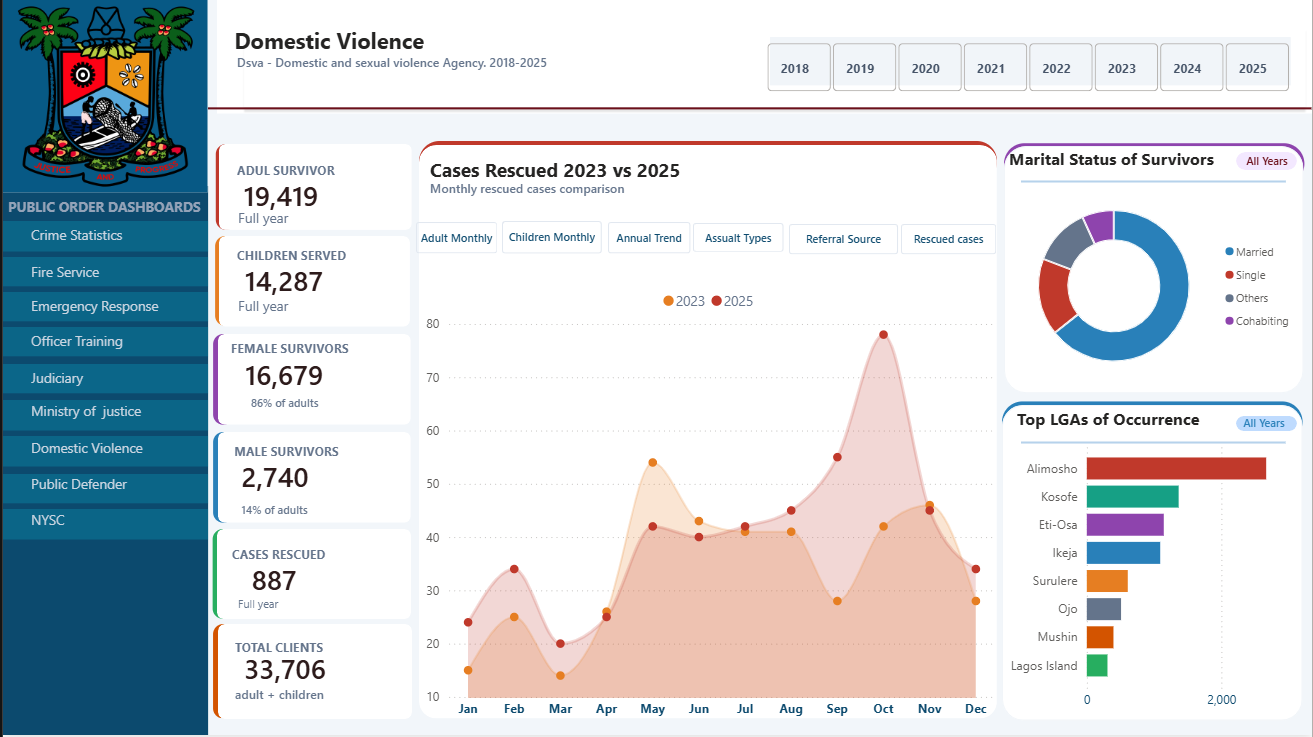

What the dashboard file says about the page in this screenshot:
{"tool":"powerbi","page":{"name":"Domestic Violoence","canvas":[1280,720],"ordinal":6},"visuals":[{"type":"shape","box":[94.3,610.9,243.1,92.4],"z":0},{"type":"shape","box":[407.1,99.6,565.3,118.2],"z":1000},{"type":"shape","box":[0,182.7,200.6,537.3],"z":2000},{"type":"shape","box":[0,499.1,200.6,29.9],"z":3000},{"type":"shape","box":[0,464.5,200.6,28.7],"z":4000},{"type":"shape","box":[0,427.5,200.6,29.9],"z":5000},{"type":"shape","box":[0,391.6,200.6,29.9],"z":6000},{"type":"shape","box":[0,357,200.6,28.7],"z":7000},{"type":"shape","box":[0,321.2,200.6,28.7],"z":8000},{"type":"shape","box":[0,286.6,200.6,28.7],"z":9000},{"type":"shape","box":[0,251.9,200.6,28.7],"z":10000},{"type":"shape","box":[0,217.3,200.6,29.9],"z":11000},{"type":"shape","box":[95.2,518.5,240.3,87.8],"z":12000},{"type":"shape","box":[209.3,518.3,189.7,88],"z":13000},{"type":"textbox","box":[211.8,0,373,70.6],"z":14000},{"type":"shape","box":[95.2,423.3,241.2,88.7],"z":15000},{"type":"shape","box":[209.8,423.3,188.5,88.7],"z":16000},{"type":"shape","box":[95.2,327.2,241.2,88.7],"z":17000},{"type":"shape","box":[209.8,327.2,188.5,88.7],"z":18000},{"type":"shape","box":[97,232,241.2,87.8],"z":19000},{"type":"shape","box":[211.6,232,186.7,88.7],"z":20000},{"type":"shape","box":[97.6,141.8,240.6,84],"z":21000},{"type":"shape","box":[211.6,141.4,188.5,84.1],"z":22000},{"type":"shape","box":[977,375.6,293.9,76],"z":23000},{"type":"shape","box":[209.2,0,1071,112.2],"z":24000},{"type":"shape","box":[0,0,200,189.3],"z":25000},{"type":"shape","box":[744.4,31.8,520.9,59],"z":26000},{"type":"advancedSlicerVisual","fields":{"Values":["YearTable.Year"]},"box":[727.4,35.2,552.6,63.5],"z":27000},{"type":"shape","box":[977,397.2,293.9,308.7],"z":28000},{"type":"shape","box":[407.1,143.1,565.3,560.9],"z":29000},{"type":"shape","box":[979.1,111,293.7,99.1],"z":30000},{"type":"shape","box":[979.3,144.1,292.8,241.7],"z":31000},{"type":"textbox","box":[223.9,153.5,174.1,35.2],"z":32000},{"type":"card","fields":{"Values":["DSVA_Annual_Summary.Adult Survivors"]},"box":[218.1,166.2,107.6,53.8],"z":33000},{"type":"clusteredBarChart","fields":{"Category":["DSVA_LGA_of_Occurrence.LGA"],"Y":["Sum(DSVA_LGA_of_Occurrence.Count)"]},"box":[979.4,428.7,292.4,269.6],"z":35000},{"type":"shape","box":[995.2,391.5,258.7,85.1],"z":36000},{"type":"shape","box":[995.4,131,259.1,94.9],"z":37000},{"type":"textbox","box":[979.3,140.7,258.7,48.8],"z":38000},{"type":"textbox","box":[223.5,47.7,377.9,52.2],"z":39000},{"type":"textbox","box":[211.1,20.4,215.6,53.3],"z":45000},{"type":"textbox","box":[0,189.7,200.5,39.1],"z":46000},{"type":"textbox","box":[22.7,217.3,125.4,29.9],"z":47000},{"type":"textbox","box":[22.7,253.1,115.8,27.5],"z":48000},{"type":"textbox","box":[22.7,286.6,146.9,28.7],"z":49000},{"type":"textbox","box":[22.7,321.2,146.9,28.7],"z":50000},{"type":"textbox","box":[22.7,357,132.5,28.7],"z":51000},{"type":"textbox","box":[22.7,389.3,132.5,34.6],"z":52000},{"type":"textbox","box":[22.7,425.1,132.5,34.6],"z":53000},{"type":"textbox","box":[22.7,460.9,132.5,32.2],"z":54000},{"type":"textbox","box":[22.7,495.5,115.8,33.4],"z":55000},{"type":"textbox","box":[223.9,236.6,176,30.3],"z":56000},{"type":"card","fields":{"Values":["DSVA_Annual_Summary.Children Served"]},"box":[223.9,249.4,101.7,53.8],"z":57000},{"type":"textbox","box":[218.1,327.6,141.8,29.3],"z":58000},{"type":"card","fields":{"Values":["DSVA_Annual_Summary.Female Survivors"]},"box":[223.5,341.6,102.1,53.3],"z":59000},{"type":"textbox","box":[212.5,428.7,130.1,28.7],"z":60000},{"type":"card","fields":{"Values":["DSVA_Annual_Summary.Male Survivors"]},"box":[222.9,441,86.1,53.8],"z":61000},{"type":"shape","box":[210.2,611.2,189.7,92.9],"z":62000},{"type":"card","fields":{"Values":["DSVA_Annual_Summary.TotalRescued"]},"box":[222.1,542.5,86.5,52.6],"z":63000},{"type":"textbox","box":[219,528.8,148.7,32.9],"z":64000},{"type":"textbox","box":[222.4,619.6,167.9,27.2],"z":65000},{"type":"textbox","box":[222.4,666.1,154.3,37.4],"z":66000},{"type":"donutChart","fields":{"Category":["DSVA_Adult_Marital_Status.Marital_Status"],"Y":["Sum(DSVA_Adult_Marital_Status.Count)"]},"box":[979.3,182.7,292.8,195.2],"z":73000},{"type":"textbox","box":[224.9,200.5,113.4,32.3],"z":74000},{"type":"textbox","box":[986.6,395,198.5,39.1],"z":84000},{"type":"shape","box":[1205.7,149.6,59.6,17.6],"z":85000},{"type":"textbox","box":[224.5,286.6,80,28.7],"z":86000},{"type":"card","fields":{"Values":["DSVA_Annual_Summary.Female % Label"]},"box":[224.7,381.3,101,31.8],"z":87000},{"type":"card","fields":{"Values":["DSVA_Annual_Summary.Male % Label"]},"box":[225.8,484.5,79.4,34],"z":88000},{"type":"card","fields":{"Values":["Sum(DSVA_Annual_Summary.Total_Clients)"]},"box":[225.8,628.7,99.9,53.3],"z":89000},{"type":"textbox","box":[224.7,576.5,64.7,35.2],"z":90000},{"type":"shape","box":[200.9,61.3,1079.1,90.7],"z":91000},{"type":"lineChart","fields":{"Category":["DSVA_Rescued_Cases.Month_Name"],"Y":["Sum(DSVA_Rescued_Cases.Rescued_Cases)"],"Series":["DSVA_Rescued_Cases.Year"]},"box":[408.7,275.2,565.6,438],"z":110000},{"type":"textbox","box":[412.7,148.6,392.1,35.2],"z":111000},{"type":"textbox","box":[413,171.3,391.5,38.6],"z":112000},{"type":"card","fields":{"Values":["DSVA_Adult_Monthly_Gender.DSVA Badge"]},"box":[1207.6,148.6,56.7,22.5],"z":113000},{"type":"shape","box":[1205.7,407.8,59.6,14.7],"z":114000},{"type":"card","fields":{"Values":["DSVA_Adult_Monthly_Gender.DSVA Badge"]},"box":[1205.7,405.8,54.8,21.5],"z":115000},{"type":"shape","title":"v","box":[404,217.9,79.4,30.6],"z":116000},{"type":"shape","title":"v","box":[487.9,216.7,97.6,31.8],"z":117000},{"type":"shape","title":"v","box":[591.2,217.9,80.6,30.6],"z":118000},{"type":"shape","title":"v","box":[675.2,219,88.5,28.4],"z":119000},{"type":"shape","title":"v","box":[768.2,220.1,106.7,29.5],"z":120000},{"type":"shape","title":"v","box":[878.3,220.1,93,29.5],"z":121000},{"type":"image","box":[0,0,200.5,189.7],"z":122000}]}

Visuals, with their boxes on the page's 1280x720 design canvas (x1, y1, x2, y2). These are canvas units, not pixel positions in the 1313x737 screenshot, which may show the page scaled, cropped or inside an application window:
shape: 94 611 337 703
shape: 407 100 972 218
shape: 0 183 201 720
shape: 0 499 201 529
shape: 0 464 201 493
shape: 0 428 201 457
shape: 0 392 201 422
shape: 0 357 201 386
shape: 0 321 201 350
shape: 0 287 201 315
shape: 0 252 201 281
shape: 0 217 201 247
shape: 95 518 336 606
shape: 209 518 399 606
textbox: 212 0 585 71
shape: 95 423 336 512
shape: 210 423 398 512
shape: 95 327 336 416
shape: 210 327 398 416
shape: 97 232 338 320
shape: 212 232 398 321
shape: 98 142 338 226
shape: 212 141 400 226
shape: 977 376 1271 452
shape: 209 0 1280 112
shape: 0 0 200 189
shape: 744 32 1265 91
advancedSlicerVisual - YearTable.Year: 727 35 1280 99
shape: 977 397 1271 706
shape: 407 143 972 704
shape: 979 111 1273 210
shape: 979 144 1272 386
textbox: 224 154 398 189
card - DSVA_Annual_Summary.Adult Survivors: 218 166 326 220
clusteredBarChart - DSVA_LGA_of_Occurrence.LGA x Sum(DSVA_LGA_of_Occurrence.Count): 979 429 1272 698
shape: 995 392 1254 477
shape: 995 131 1254 226
textbox: 979 141 1238 190
textbox: 224 48 601 100
textbox: 211 20 427 74
textbox: 0 190 200 229
textbox: 23 217 148 247
textbox: 23 253 138 281
textbox: 23 287 170 315
textbox: 23 321 170 350
textbox: 23 357 155 386
textbox: 23 389 155 424
textbox: 23 425 155 460
textbox: 23 461 155 493
textbox: 23 496 138 529
textbox: 224 237 400 267
card - DSVA_Annual_Summary.Children Served: 224 249 326 303
textbox: 218 328 360 357
card - DSVA_Annual_Summary.Female Survivors: 224 342 326 395
textbox: 212 429 343 457
card - DSVA_Annual_Summary.Male Survivors: 223 441 309 495
shape: 210 611 400 704
card - DSVA_Annual_Summary.TotalRescued: 222 542 309 595
textbox: 219 529 368 562
textbox: 222 620 390 647
textbox: 222 666 377 704
donutChart - DSVA_Adult_Marital_Status.Marital_Status x Sum(DSVA_Adult_Marital_Status.Count): 979 183 1272 378
textbox: 225 200 338 233
textbox: 987 395 1185 434
shape: 1206 150 1265 167
textbox: 224 287 304 315
card - DSVA_Annual_Summary.Female % Label: 225 381 326 413
card - DSVA_Annual_Summary.Male % Label: 226 484 305 518
card - Sum(DSVA_Annual_Summary.Total_Clients): 226 629 326 682
textbox: 225 576 289 612
shape: 201 61 1280 152
lineChart - DSVA_Rescued_Cases.Month_Name x Sum(DSVA_Rescued_Cases.Rescued_Cases): 409 275 974 713
textbox: 413 149 805 184
textbox: 413 171 804 210
card - DSVA_Adult_Monthly_Gender.DSVA Badge: 1208 149 1264 171
shape: 1206 408 1265 422
card - DSVA_Adult_Monthly_Gender.DSVA Badge: 1206 406 1260 427
"v" shape: 404 218 483 248
"v" shape: 488 217 586 248
"v" shape: 591 218 672 248
"v" shape: 675 219 764 247
"v" shape: 768 220 875 250
"v" shape: 878 220 971 250
image: 0 0 200 190
